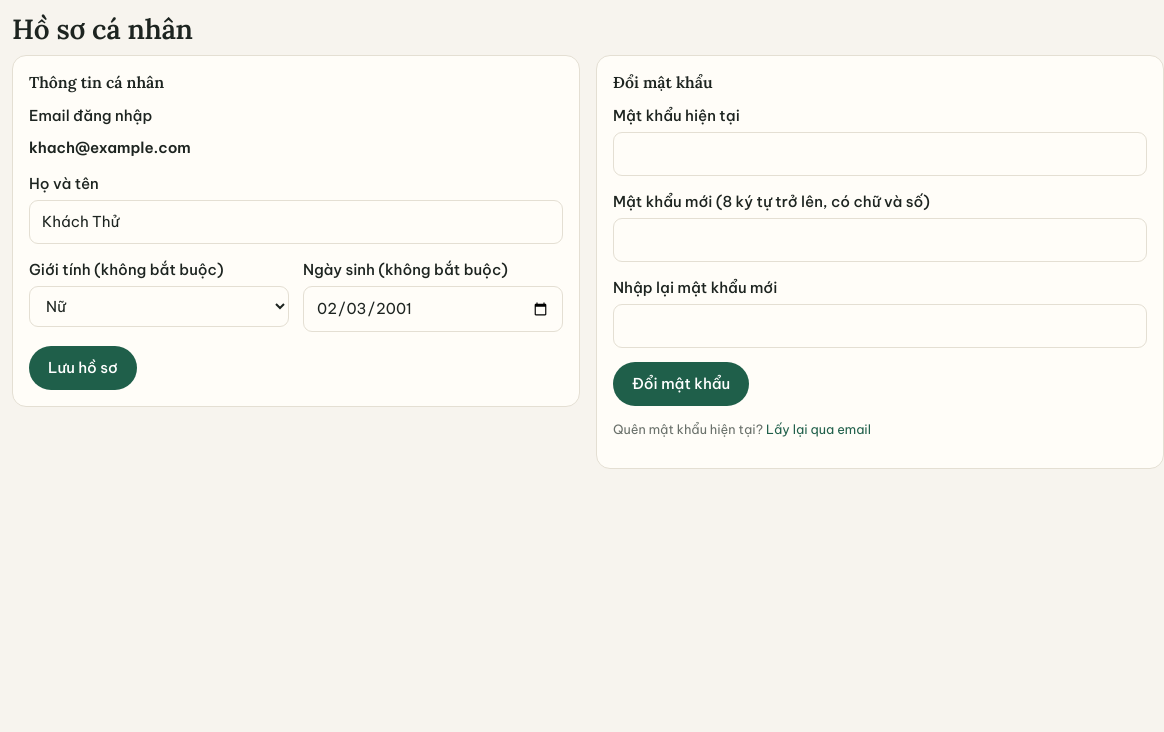
Test: ProfilePage › đổi mật khẩu: nhập lại không khớp thì không gửi, đúng thì gửi và xóa các ô
Type "matkhau1" into the password field labelled "Mật khẩu hiện tại".
click(880, 154); type("matkhau1")  # box top-left (613, 132), bottom-right (1147, 176)
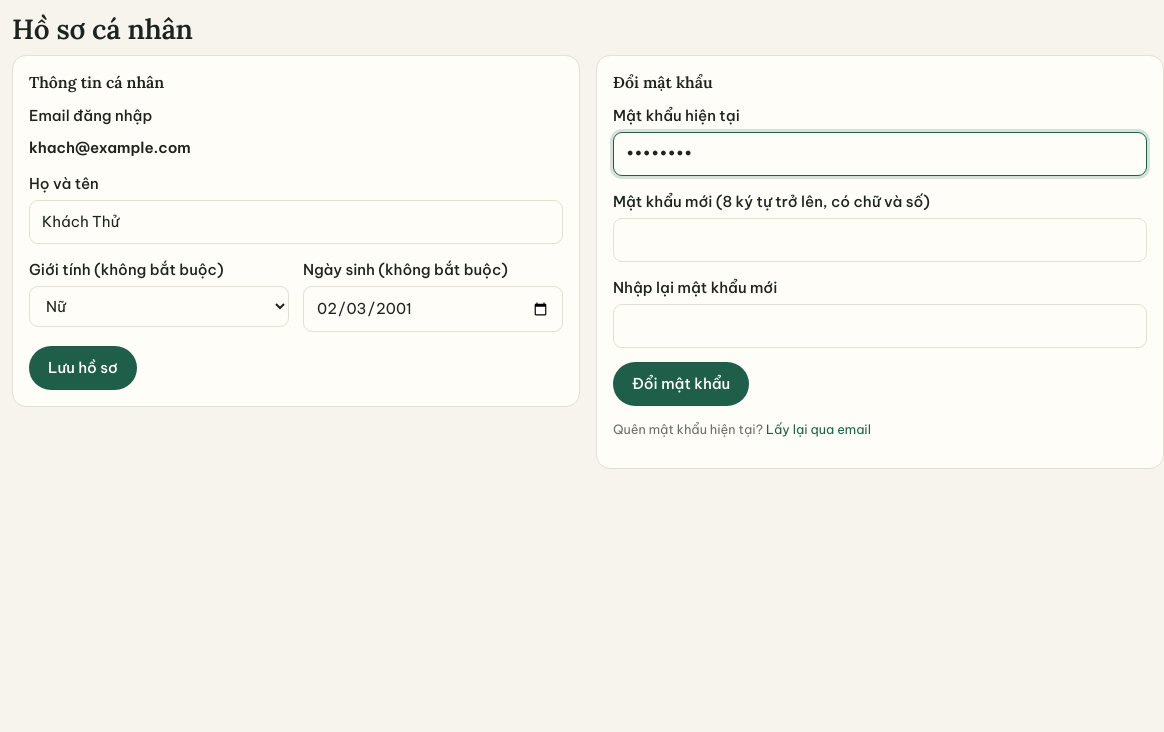
Type "matkhaumoi2" into the password field labelled "Mật khẩu mới (8 ký tự trở lên, có chữ và số)".
click(880, 240); type("matkhaumoi2")  # box top-left (613, 218), bottom-right (1147, 262)
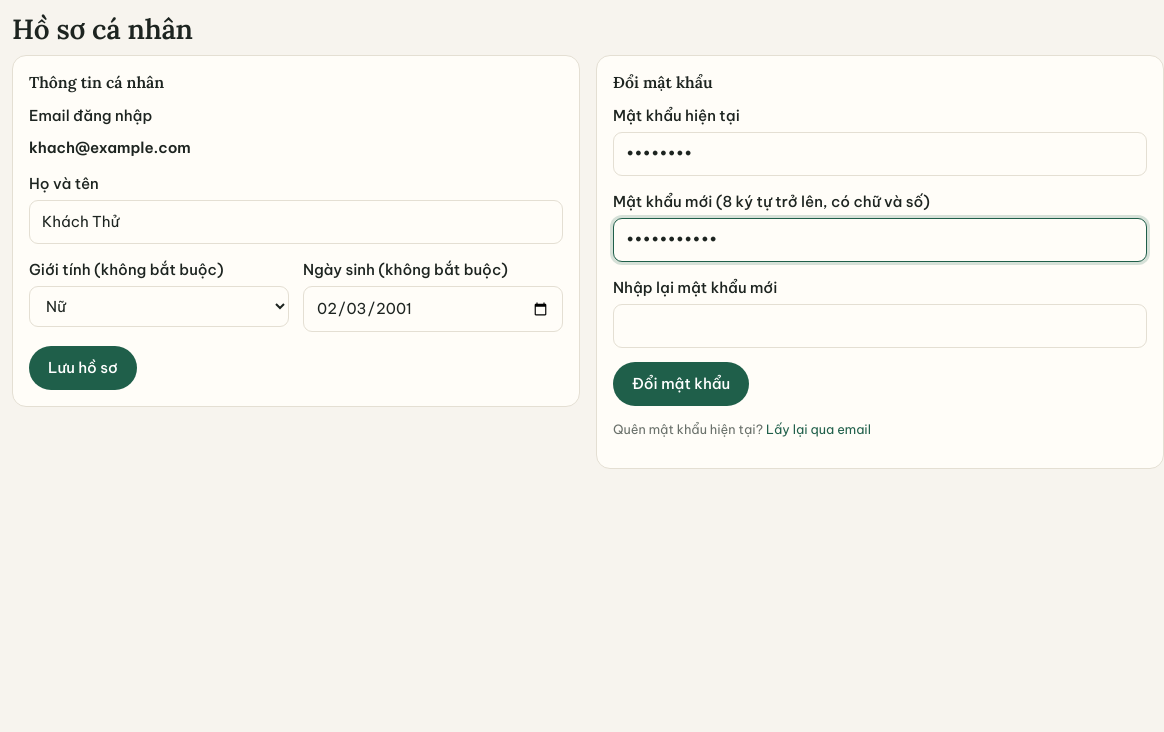
Type "khac123" into the password field labelled "Nhập lại mật khẩu mới".
click(880, 326); type("khac123")  # box top-left (613, 304), bottom-right (1147, 348)
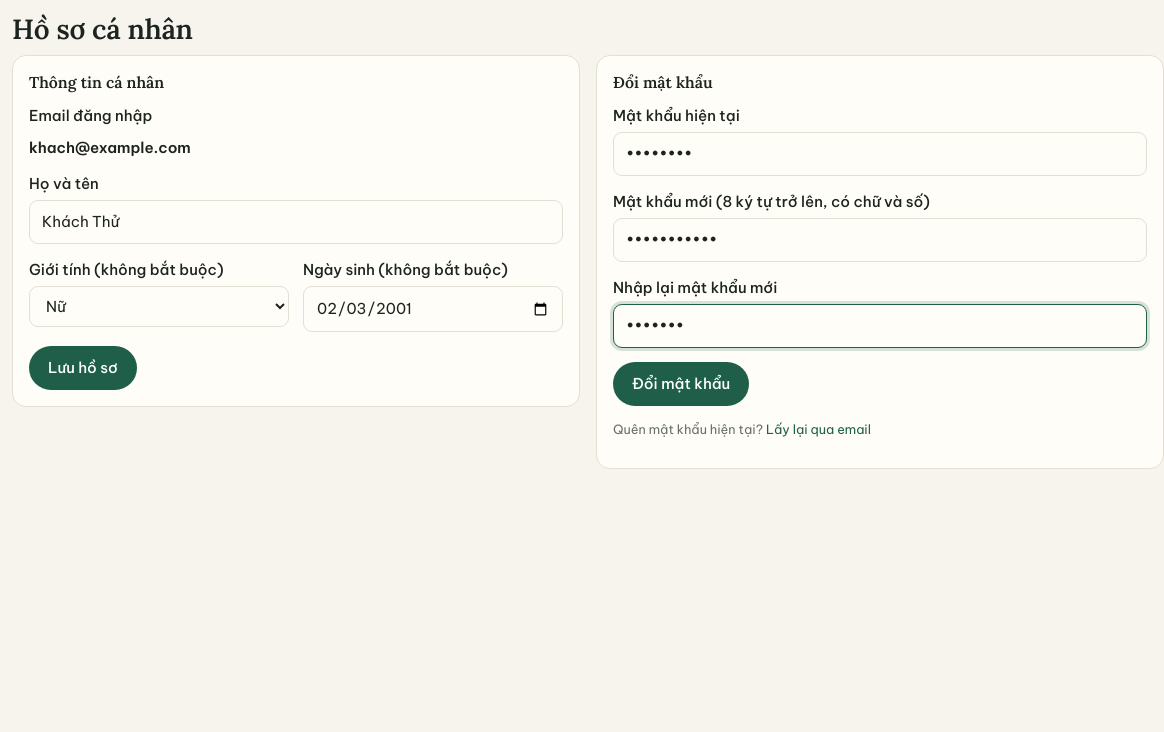
Click the button "Đổi mật khẩu".
click(681, 384)  # box top-left (613, 362), bottom-right (749, 406)
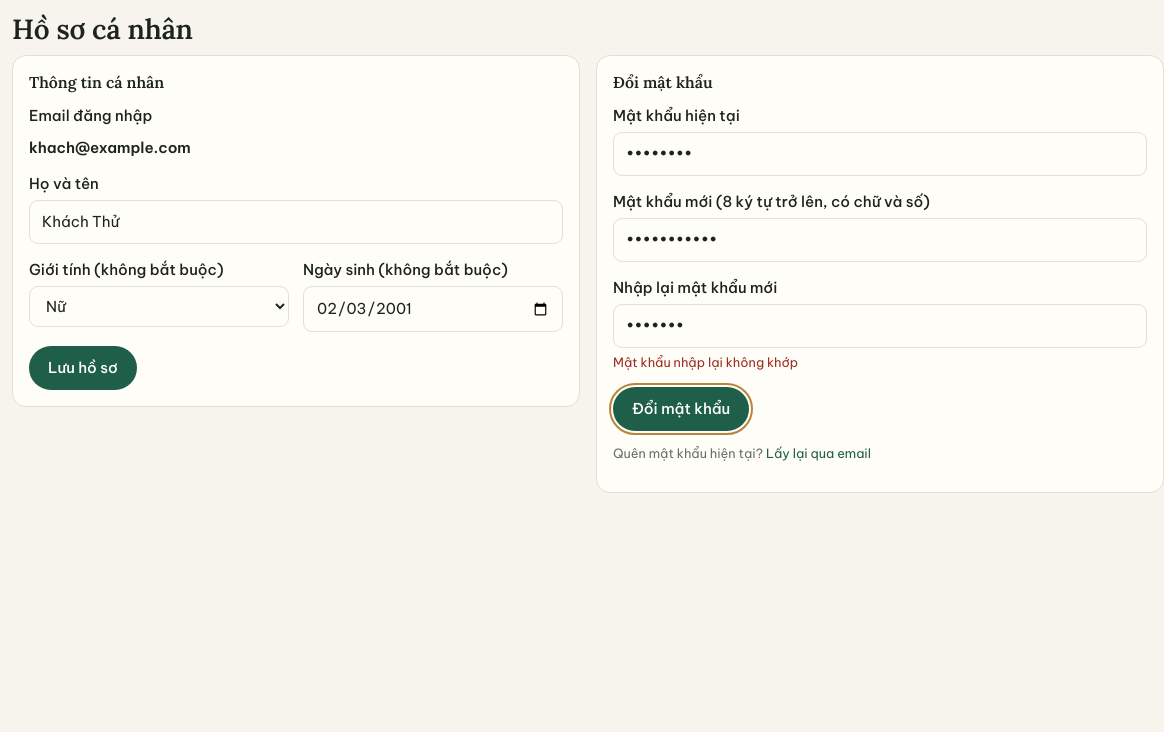
Now the text "Mật khẩu nhập lại không khớp" is shown, box top-left (613, 354), bottom-right (798, 370)
Type "matkhaumoi2" into the password field labelled "Nhập lại mật khẩu mới Mật khẩu nhập lại không khớp".
click(880, 326); type("matkhaumoi2")  # box top-left (613, 304), bottom-right (1147, 348)
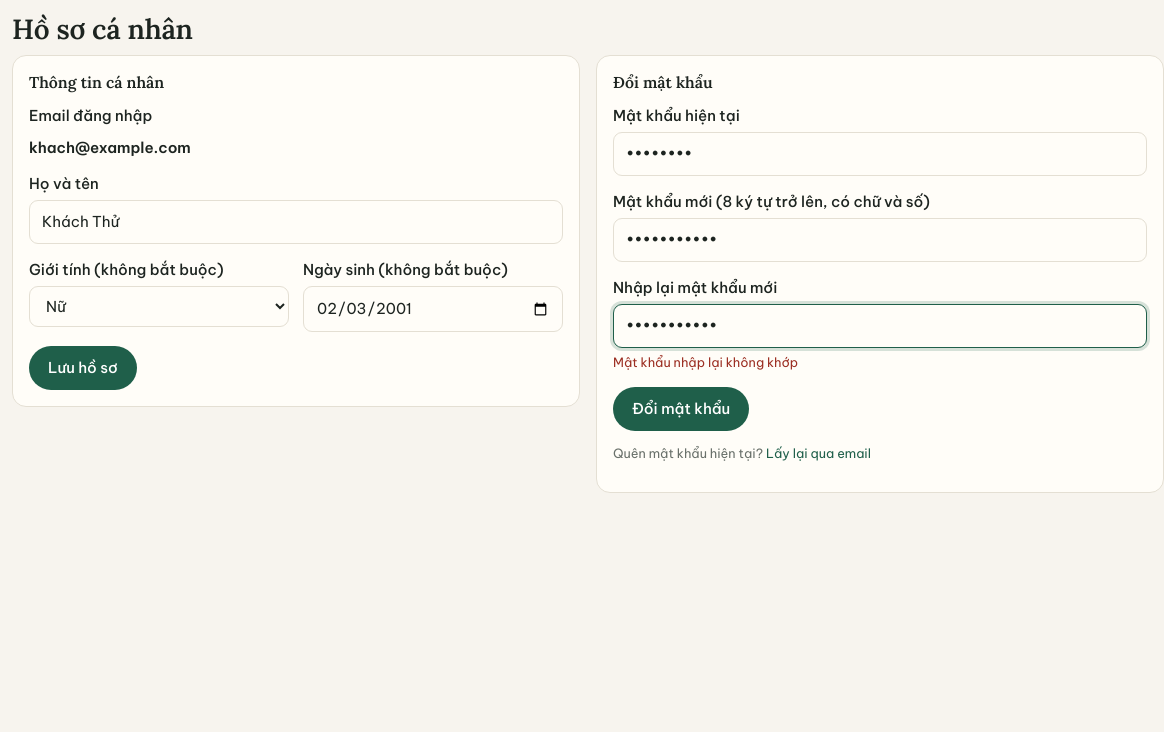
Click the button "Đổi mật khẩu".
click(681, 408)  # box top-left (613, 386), bottom-right (749, 430)
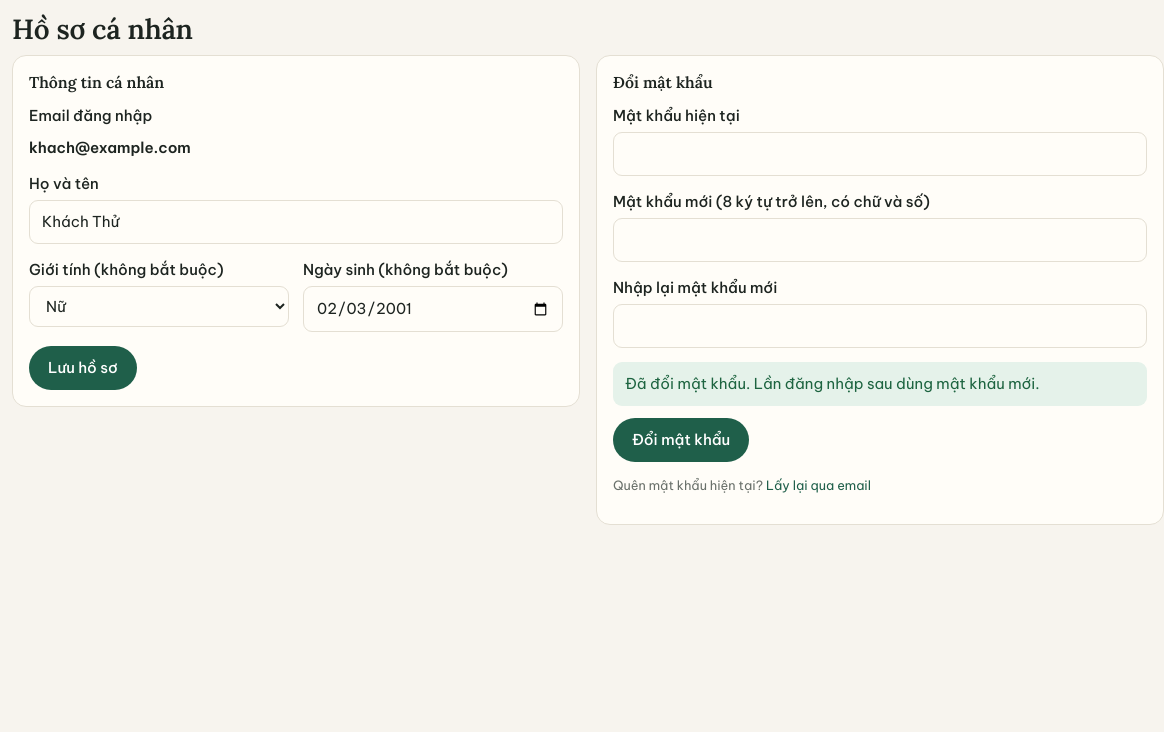
Now the text "Đã đổi mật khẩu. Lần đăng nhập sau dùng mật khẩu mới." is shown, box top-left (613, 362), bottom-right (1147, 406)
Now the password field labelled "Mật khẩu hiện tại" is empty, box top-left (613, 132), bottom-right (1147, 176)
